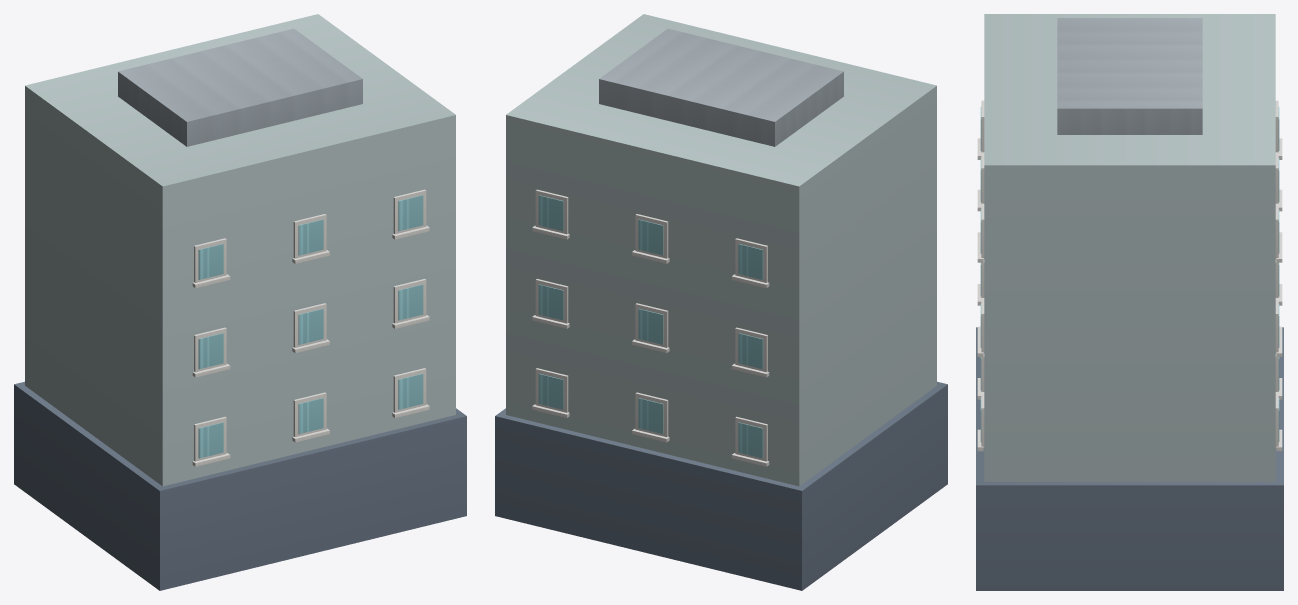
The model's file is office_midrise.glb.
3 renders of one model, left to right at view 1: azimuth 30°, elevation 25°; view 2: azimuth 150°, elevation 25°; view 3: azimuth 270°, elevation 25°, orthographic. The views are drawn at different scales.
Visible parts, largest first — view 1: office_midrise; view 2: office_midrise; view 3: office_midrise.
Boxes of the visible parts, x1,y1,x2,y2 form: office_midrise: (14,14,466,590); office_midrise: (495,14,947,590); office_midrise: (976,14,1283,590).
Size of the model in its own units: 9 by 11.9 by 7.4.
1 material, 1 textured.
